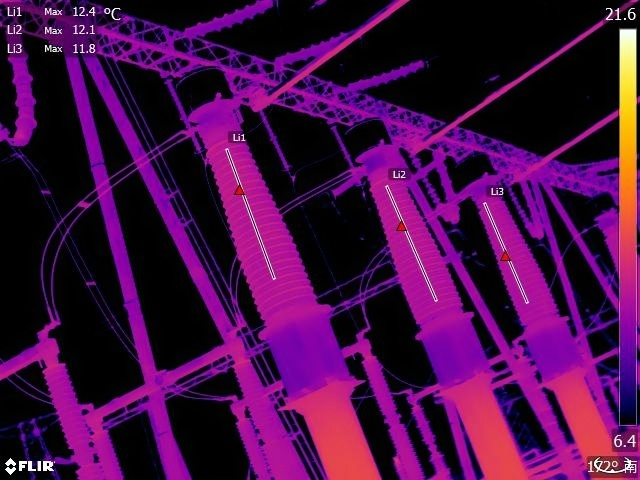current transformer: (173, 59, 364, 397), (346, 104, 490, 384), (458, 136, 589, 369)
insulator: (7, 21, 43, 150), (172, 1, 274, 41), (270, 27, 358, 69), (416, 144, 459, 214), (347, 55, 430, 91), (257, 104, 295, 178), (168, 75, 201, 156), (506, 168, 542, 237), (332, 123, 358, 183)
post insulator: (82, 325, 241, 426), (363, 350, 420, 480), (44, 364, 102, 480), (515, 356, 575, 463), (412, 403, 457, 480), (231, 416, 270, 480), (91, 423, 128, 480)
switch: (84, 329, 247, 425), (231, 333, 377, 410), (410, 338, 527, 401), (1, 333, 66, 388)
